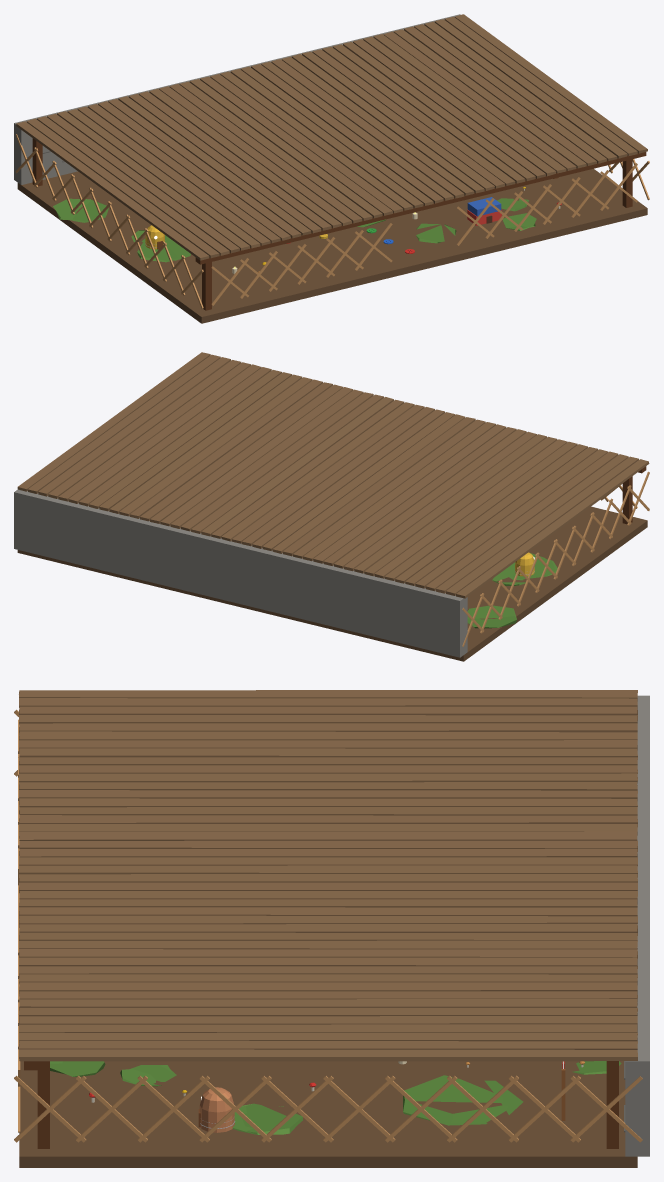
The model's file is village.fbx.
3 views of the same model, one above another, from view 1: azimuth 30°, elevation 25°; view 2: azimuth 150°, elevation 25°; view 3: azimuth 270°, elevation 25° (orthographic). The views are drawn at different scales.
Parts seen in each view (by area): view 1: village; view 2: village; view 3: village.
Boxes of the visible parts, x1,y1,x2,y2 form: village: (14,14,649,323); village: (14,352,649,661); village: (14,690,649,1167).
Size of the model in its own units: 28.36 by 3.97 by 20.57.
